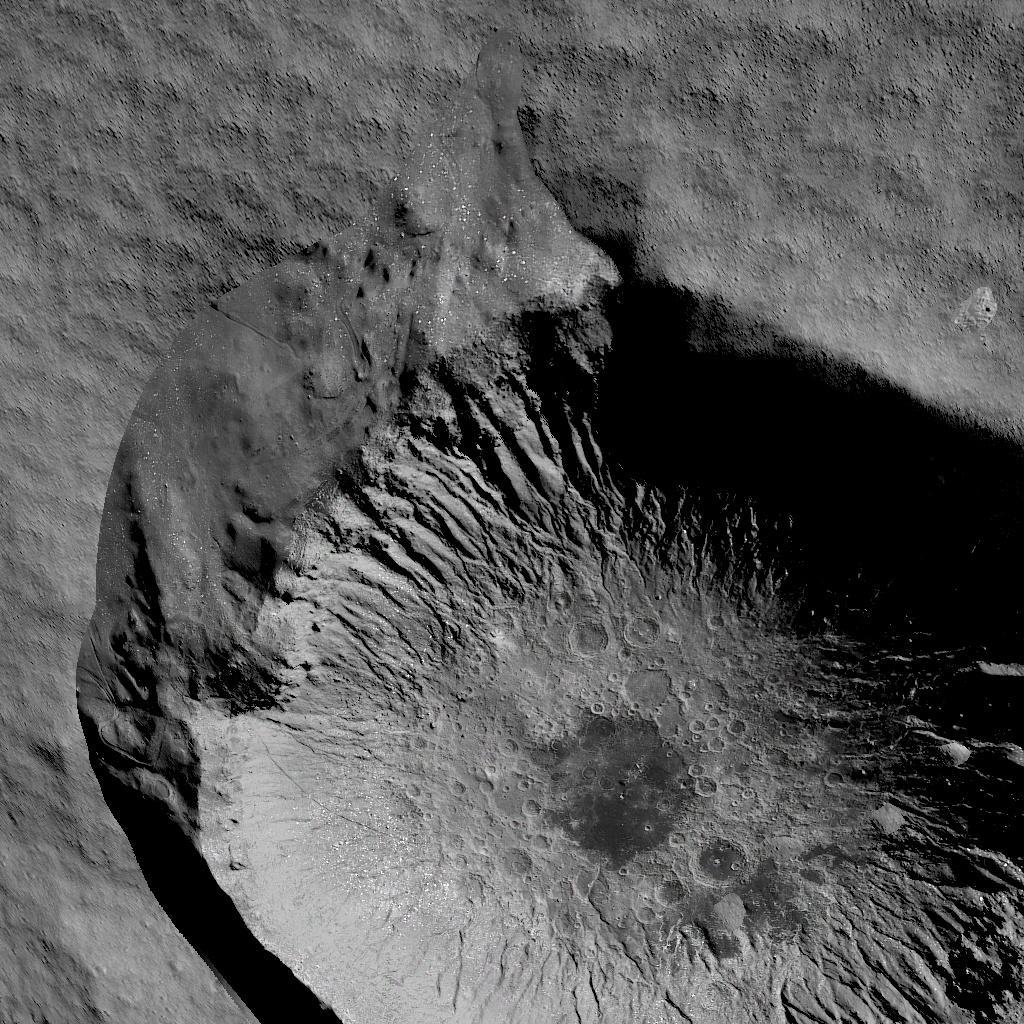Crater: (0, 137, 1024, 1021)
Plan surface: (3, 2, 1024, 120)
